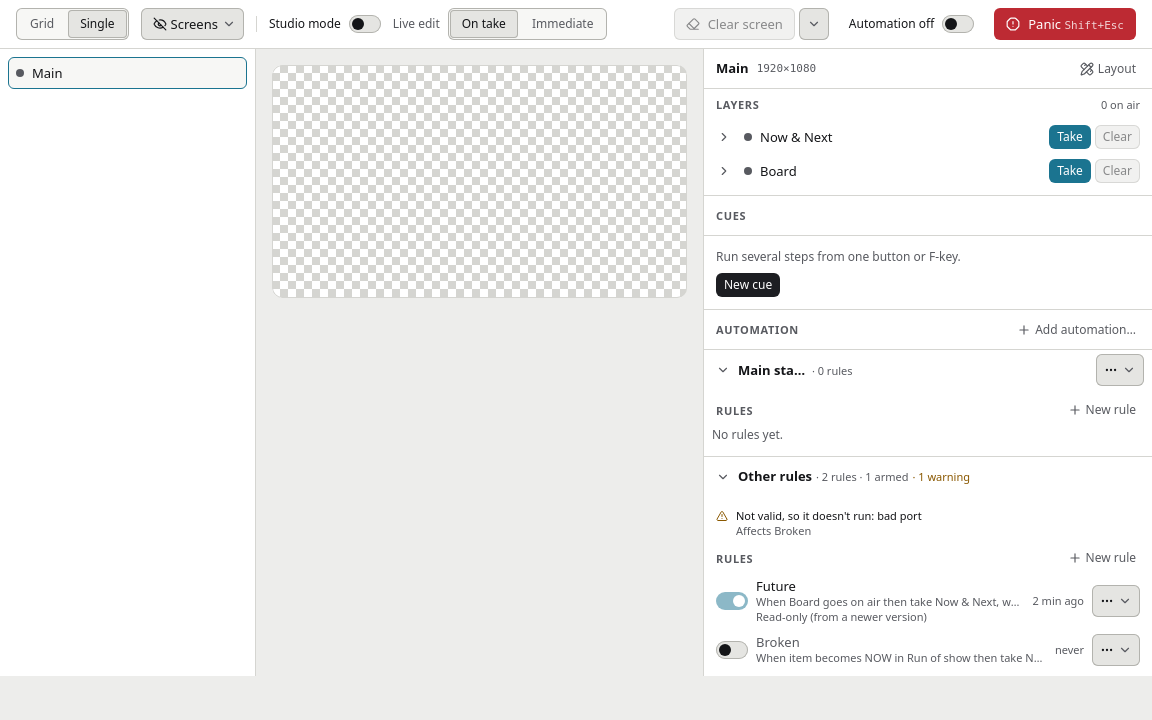
rule rows › a read-only rule can't be armed, edited or deleted; an invalid file's reason is in the row's warnings
The width and height of the screenshot is (1152, 720).
Expected: the button "Main stage · 0 rules" is shown, left=712, top=354, right=1092, bottom=386
Expected: the switch named "Arm Future" is disabled, left=716, top=592, right=748, bottom=610
Click the button named "Actions for Future".
click(1116, 601)  # box left=1092, top=585, right=1140, bottom=617
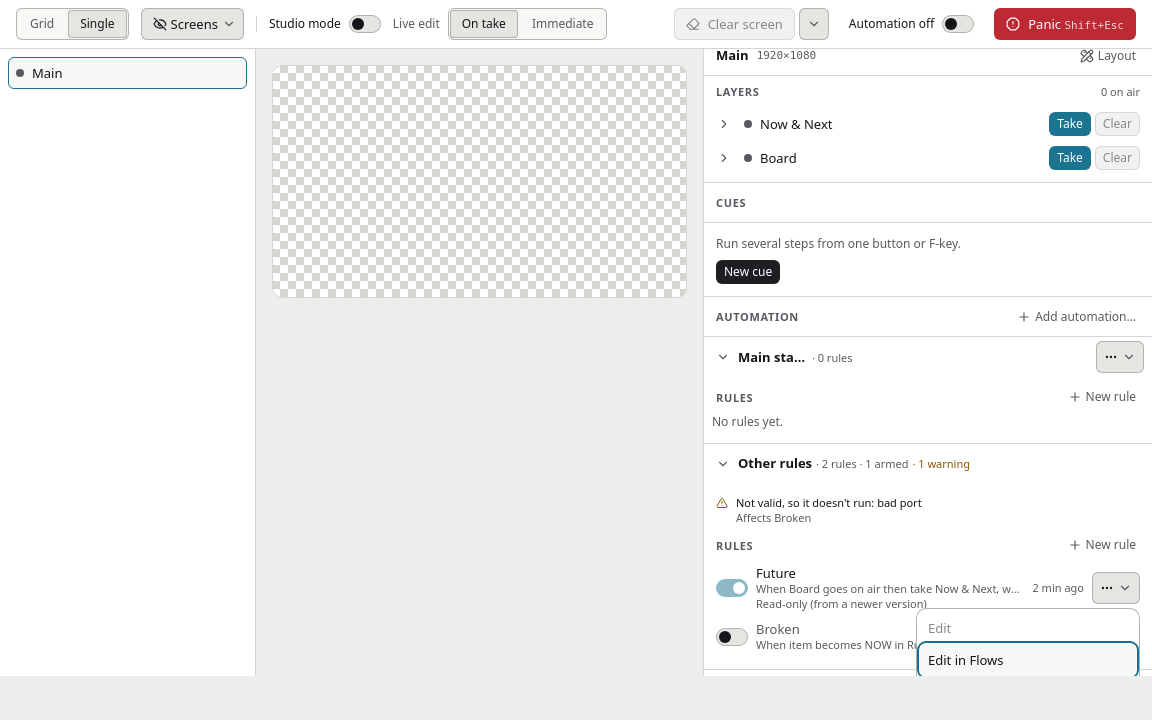
Expected: the list named "Warnings of Other rules" shows "Not valid, so it doesn't run: bad port", left=736, top=495, right=922, bottom=510
Now the menu item "Edit" is disabled, box left=920, top=612, right=1136, bottom=644
